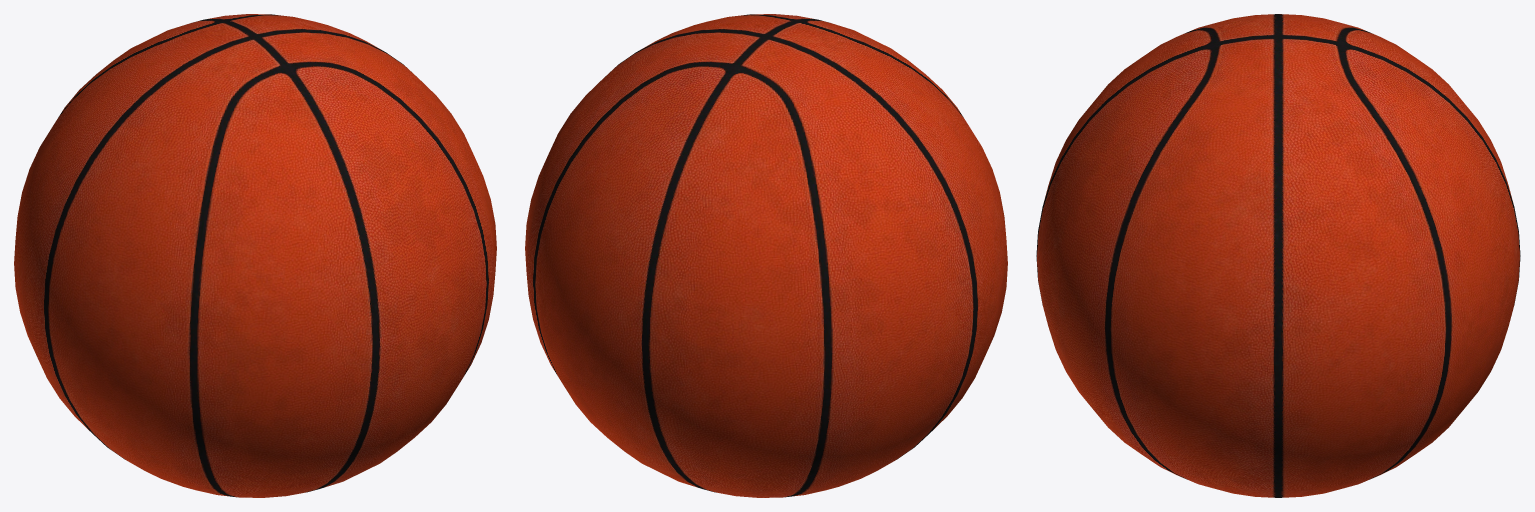
File: basketball.fbx
3 views of the same model, side by side, from view 1: azimuth 30°, elevation 25°; view 2: azimuth 150°, elevation 25°; view 3: azimuth 270°, elevation 25° (orthographic).
Parts seen in each view (by area): view 1: root; view 2: root; view 3: root.
Part boxes in pixels (x1,y1,x2,y2): root: (14, 14, 496, 497); root: (525, 14, 1007, 497); root: (1036, 14, 1520, 497).
Size of the model in its own units: 0.512 by 0.512 by 0.512.
Materials: 1 (1 with a texture image).
